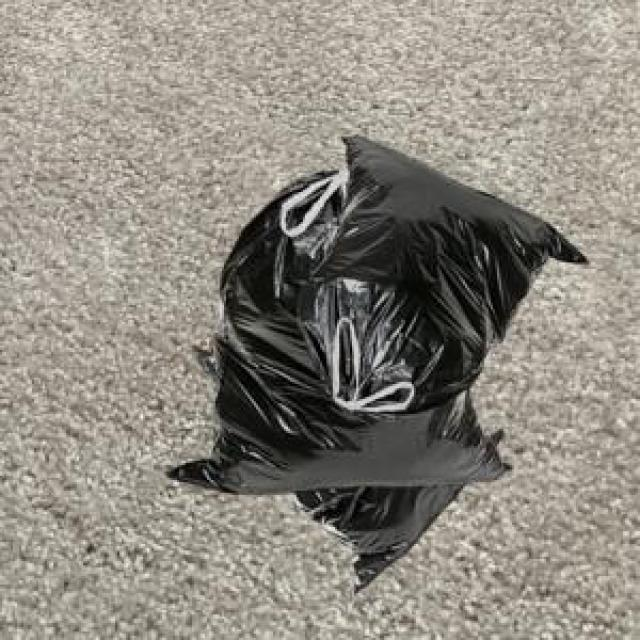waste: (169, 135, 586, 587)
